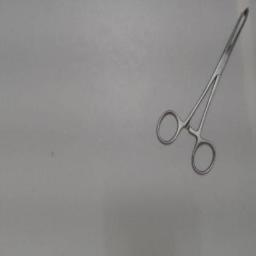Allis Tissue Forceps: (150, 2, 252, 180)
